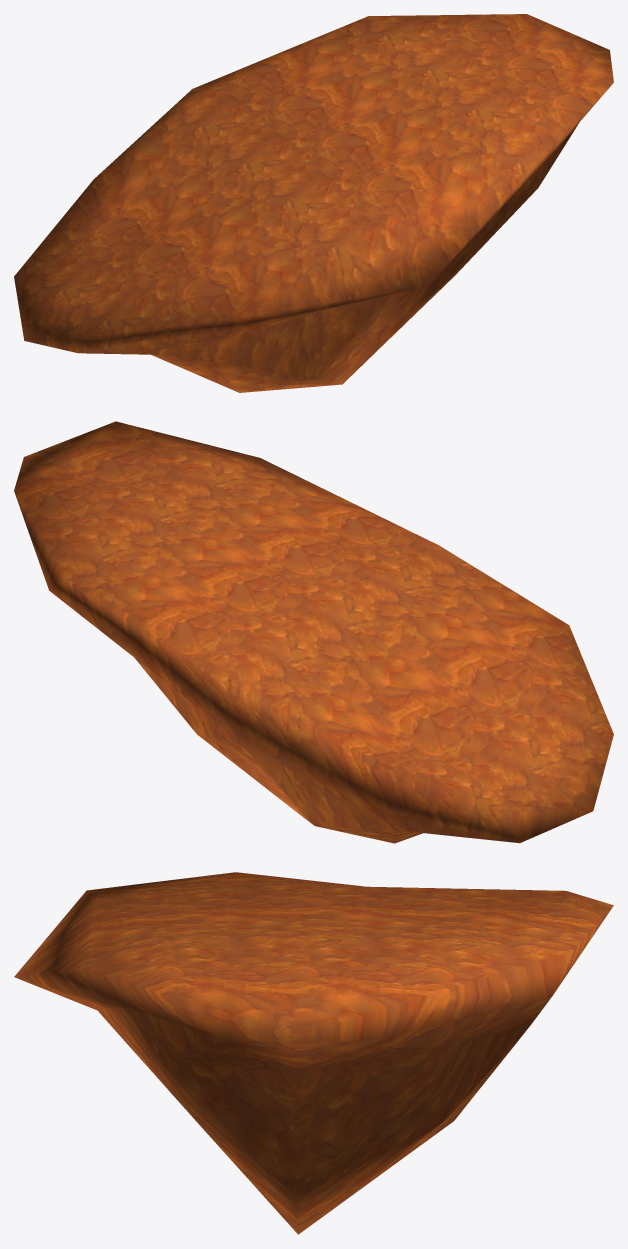
The model's file is durotarcliffrock01.obj.
The picture shows the model from 3 angles, top to bottom: view 1: azimuth 30°, elevation 25°; view 2: azimuth 150°, elevation 25°; view 3: azimuth 270°, elevation 25°; orthographic projection. The views are drawn at different scales.
Parts seen in each view (by area): view 1: DurotarCliffRock01; view 2: DurotarCliffRock01; view 3: DurotarCliffRock01.
Part boxes in pixels (x1,y1,x2,y2): DurotarCliffRock01: (14, 14, 613, 392); DurotarCliffRock01: (14, 421, 613, 843); DurotarCliffRock01: (14, 872, 613, 1234).
Bounding box in the file's own units: 52.52 × 25.4 × 35.34.
Materials: 1 (1 with a texture image).
